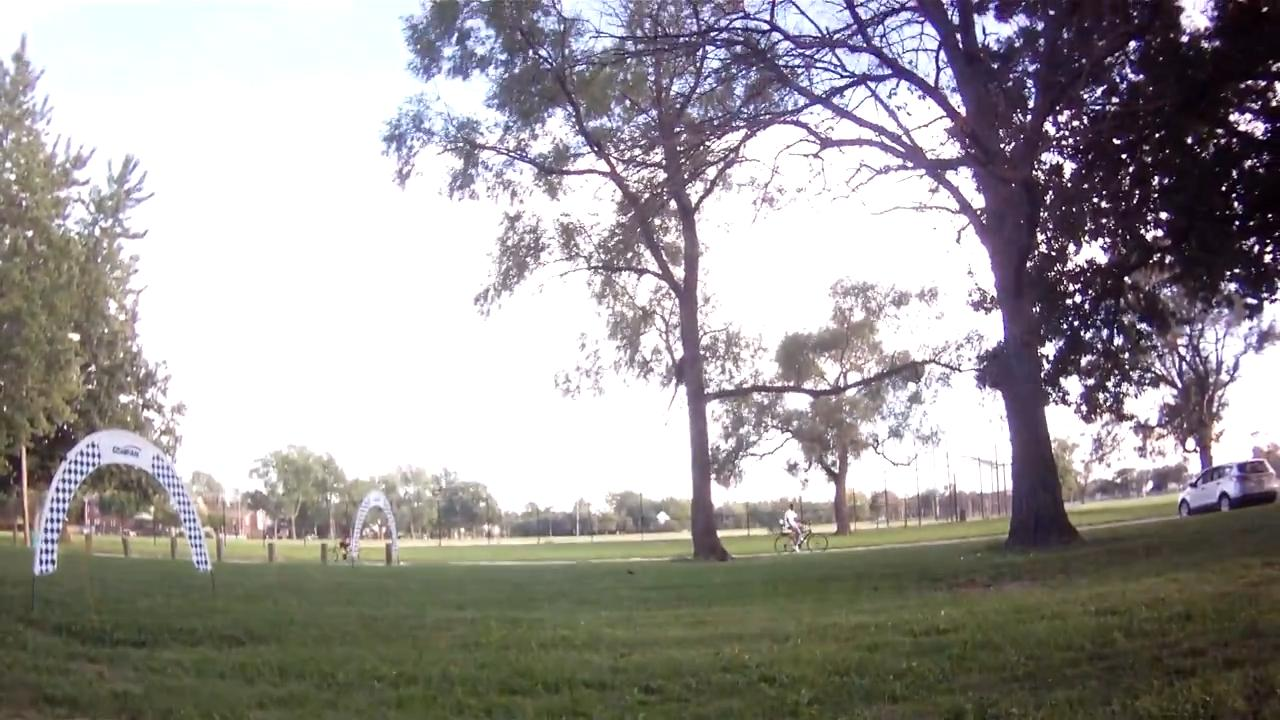gate: (31, 423, 212, 579)
